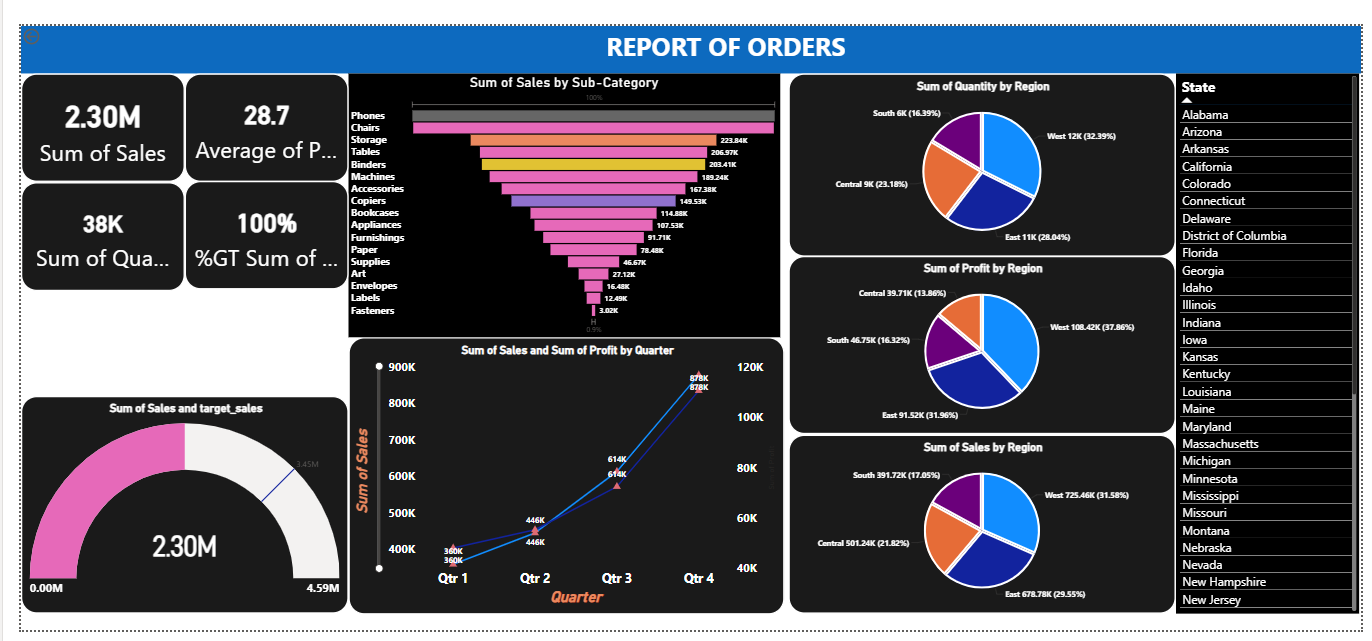

Layout of this report page (visuals, bound fields, positions):
{"tool":"powerbi","page":{"name":"REPORTS","canvas":[2552,1150],"ordinal":18},"visuals":[{"type":"textbox","box":[0,0,2685.4,90.2],"z":0},{"type":"pieChart","fields":{"Category":["sample.Region"],"Y":["Sum(sample.Profit)"]},"box":[1462.7,439.2,737.3,339.2],"z":1000},{"type":"pieChart","fields":{"Category":["sample.Region"],"Y":["Sum(sample.Sales)"]},"box":[1462.7,778.4,737.3,341.2],"z":2000},{"type":"pieChart","fields":{"Category":["sample.Region"],"Y":["Sum(sample.Quantity)"]},"box":[1462.7,90.2,737.3,349],"z":3000},{"type":"lineChart","fields":{"Category":["sample.Order Date.Variation.Date Hierarchy.Year","sample.Order Date.Variation.Date Hierarchy.Quarter","sample.Order Date.Variation.Date Hierarchy.Month","sample.Order Date.Variation.Date Hierarchy.Day"],"Y":["Sum(sample.Sales)"],"Y2":["Sum(sample.Profit)"]},"box":[624,592,830,528],"z":4000},{"type":"funnel","fields":{"Category":["sample.Sub-Category"],"Y":["Sum(sample.Sales)"]},"box":[624,90,822,502],"z":5000},{"type":"card","fields":{"Values":["Avg(sample.Profit)"]},"box":[312,90,312,206],"z":6000},{"type":"card","fields":{"Values":["Sum(sample.Profit)"]},"box":[312,296,312,206],"z":7000},{"type":"card","fields":{"Values":["Sum(sample.Sales)"]},"box":[0,90,312,206],"z":8000},{"type":"card","fields":{"Values":["Sum(sample.Quantity)"]},"box":[0,297.6,311.9,207.1],"z":9000},{"type":"tableEx","fields":{"Values":["sample.State"]},"box":[2200,91.1,348.9,1028.9],"z":10000},{"type":"gauge","fields":{"Y":["Sum(sample.Sales)"],"TargetValue":["sample.target_sales"]},"box":[0,704.9,624.4,414.6],"z":11000},{"type":"actionButton","box":[0,0,100,40],"z":12000}]}

Visuals, with their boxes on the page's 2552x1150 design canvas (x1, y1, x2, y2). These are canvas units, not pixel positions in the 1372x641 screenshot, which may show the page scaled, cropped or inside an application window:
textbox: crop(0, 0, 2685, 90)
pieChart - sample.Region x Sum(sample.Profit): crop(1463, 439, 2200, 778)
pieChart - sample.Region x Sum(sample.Sales): crop(1463, 778, 2200, 1120)
pieChart - sample.Region x Sum(sample.Quantity): crop(1463, 90, 2200, 439)
lineChart - sample.Order Date.Variation.Date Hierarchy.Year x sample.Order Date.Variation.Date Hierarchy.Quarter: crop(624, 592, 1454, 1120)
funnel - sample.Sub-Category x Sum(sample.Sales): crop(624, 90, 1446, 592)
card - Avg(sample.Profit): crop(312, 90, 624, 296)
card - Sum(sample.Profit): crop(312, 296, 624, 502)
card - Sum(sample.Sales): crop(0, 90, 312, 296)
card - Sum(sample.Quantity): crop(0, 298, 312, 505)
tableEx - sample.State: crop(2200, 91, 2549, 1120)
gauge - Sum(sample.Sales) x sample.target_sales: crop(0, 705, 624, 1120)
actionButton: crop(0, 0, 100, 40)
